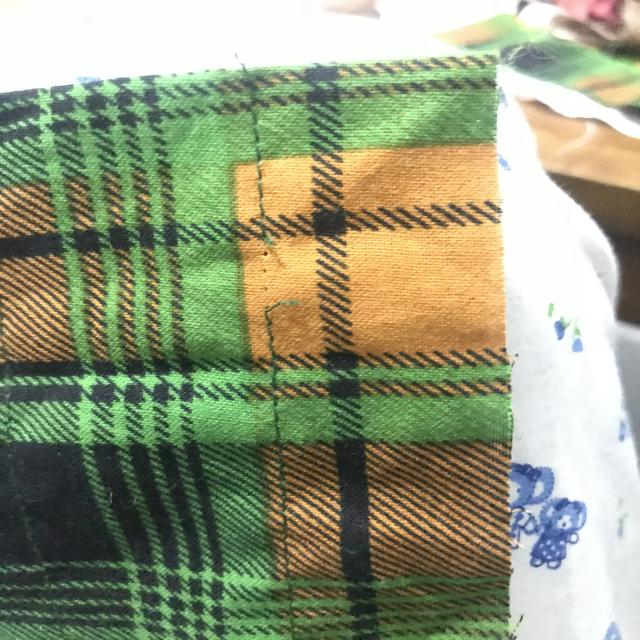broken: (250, 227, 303, 330)
good: (250, 133, 272, 200)
